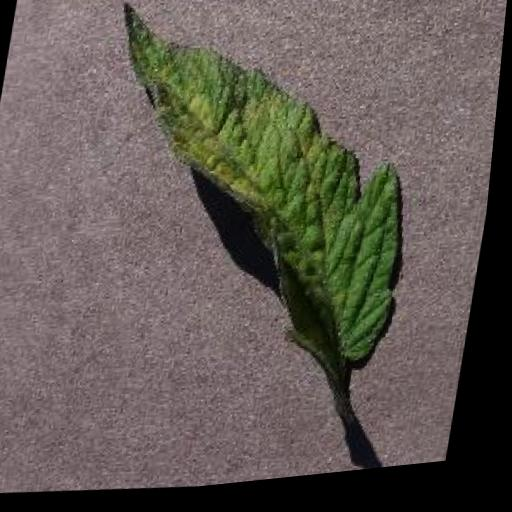Leaf Mold: (67, 0, 448, 396)
